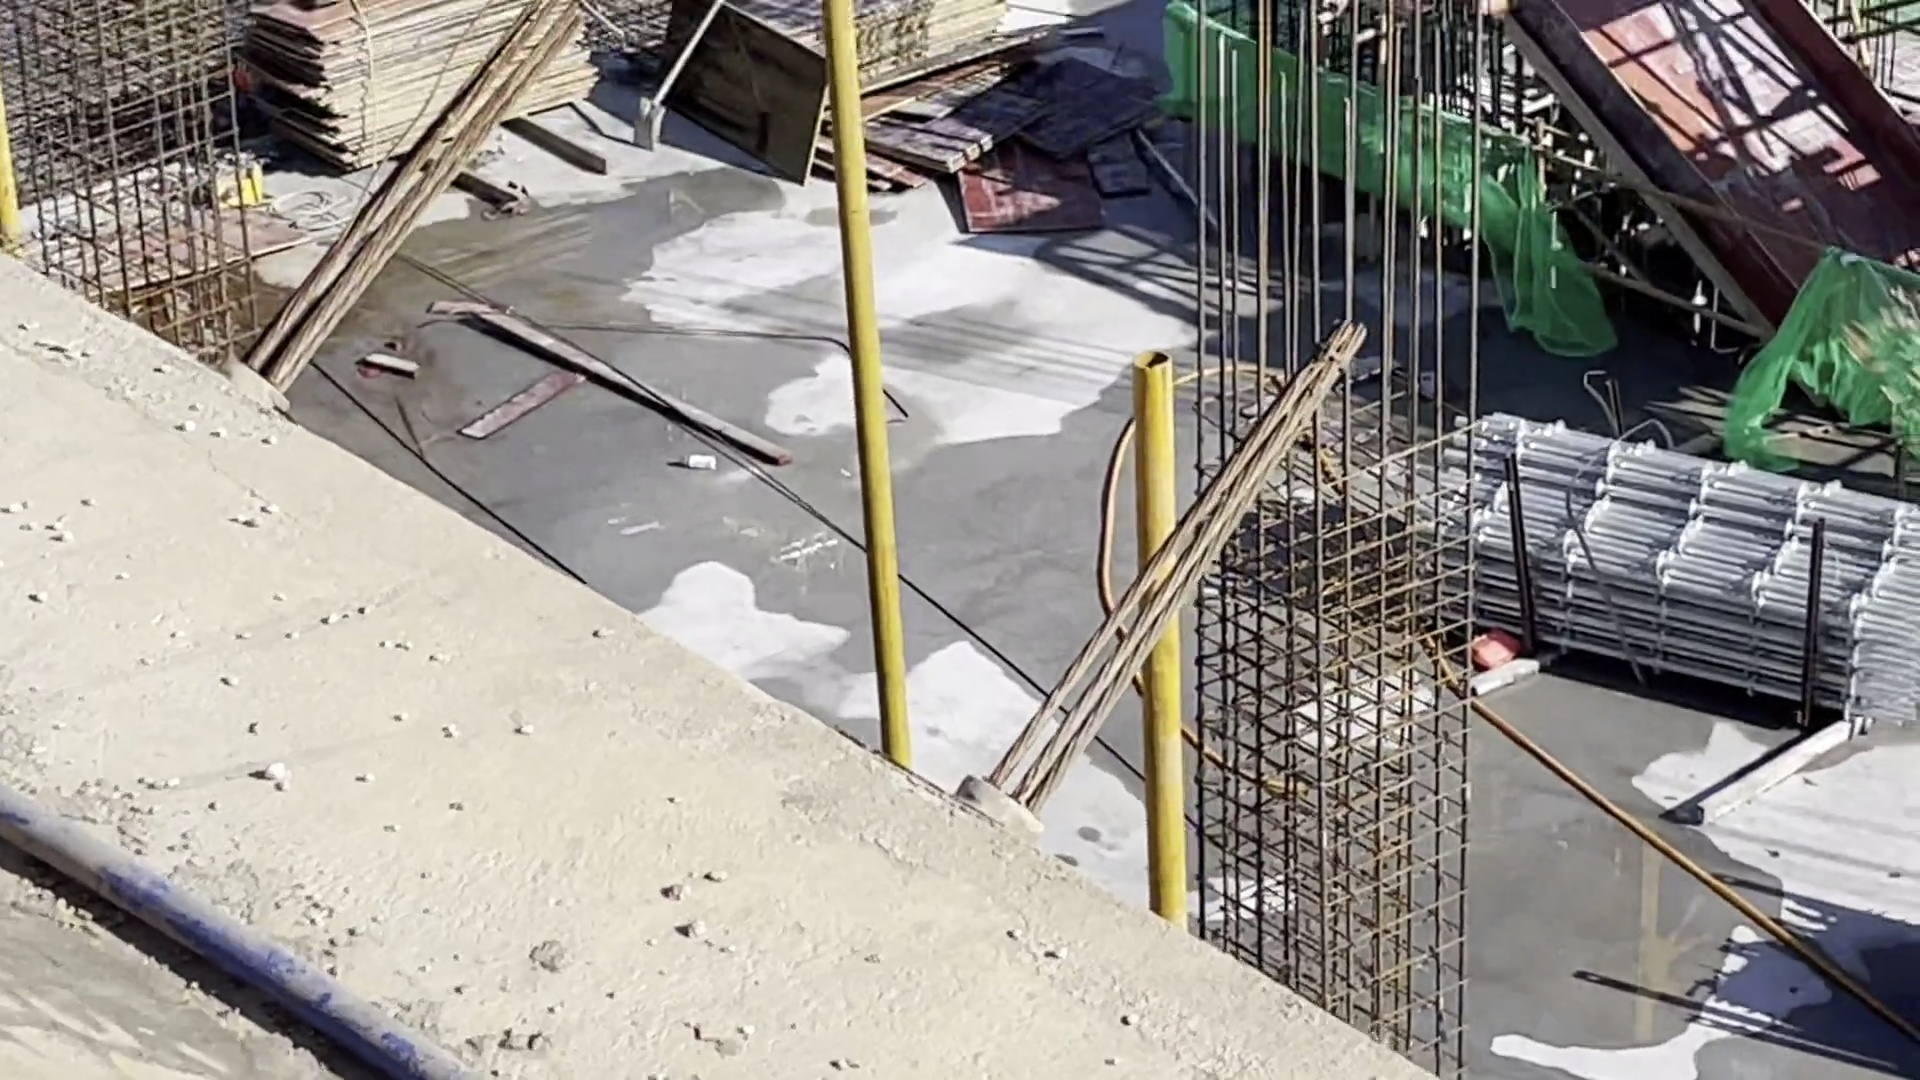board: (661, 3, 1095, 204), (243, 3, 607, 171)
scaffold: (1414, 400, 1917, 731)
